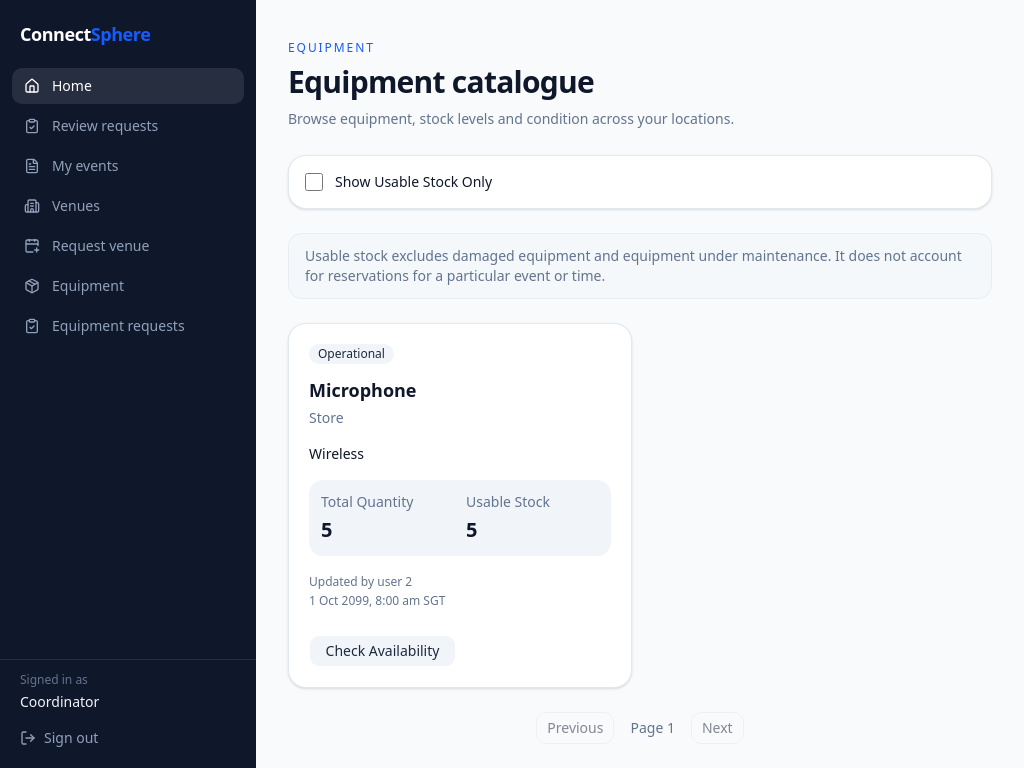
equipment catalogue opens and dismisses its availability modal
Expected: the heading "Microphone" is shown, left=309, top=378, right=416, bottom=402
What coordinates should you click on to do the following:
click the button "Check Availability"
I would click on:
 (382, 651)
Its box is left=309, top=635, right=456, bottom=667.
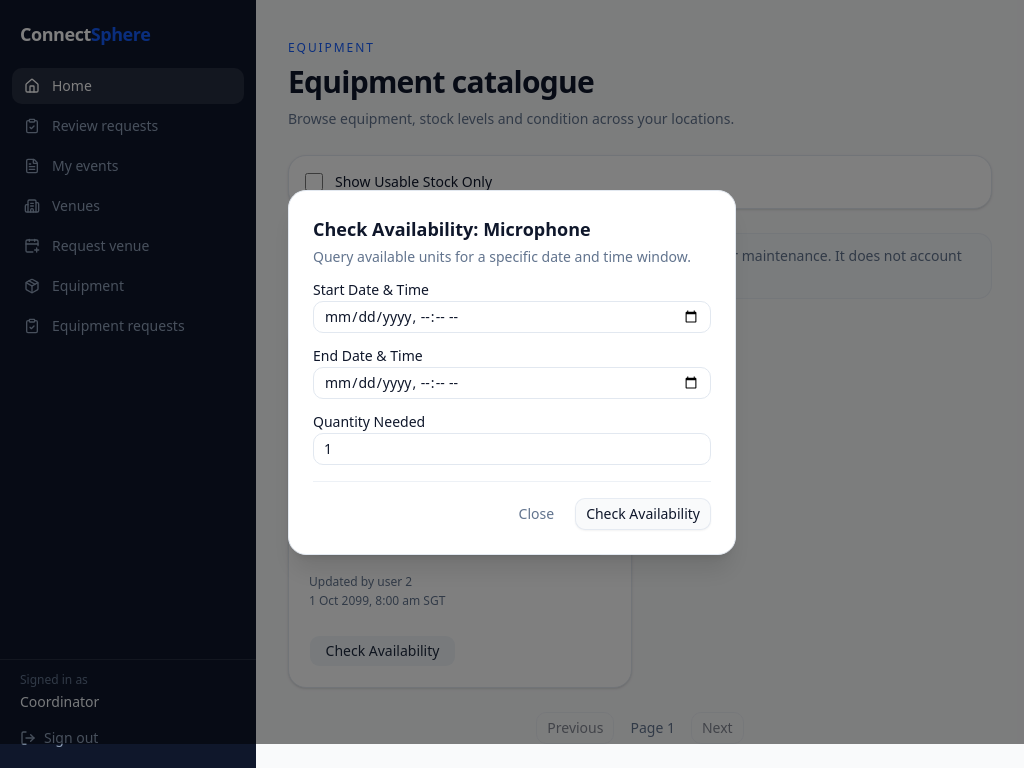
Expected: the dialog is shown
What coordinates should you click on to do the following:
click the button "Close"
I would click on:
 (536, 514)
Its box is left=508, top=498, right=565, bottom=530.
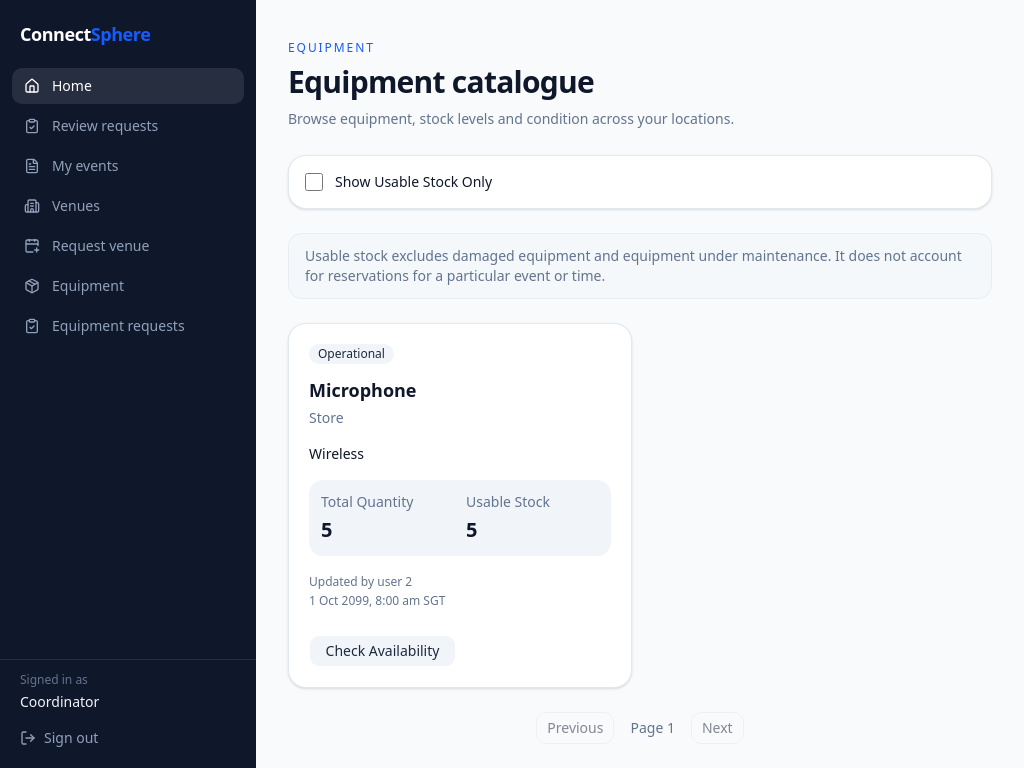
Expected: the dialog is gone
